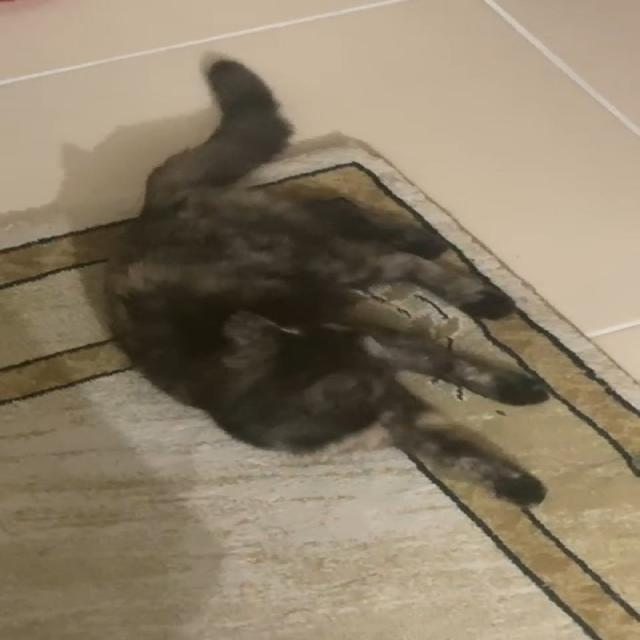authorized: (100, 50, 552, 508)
